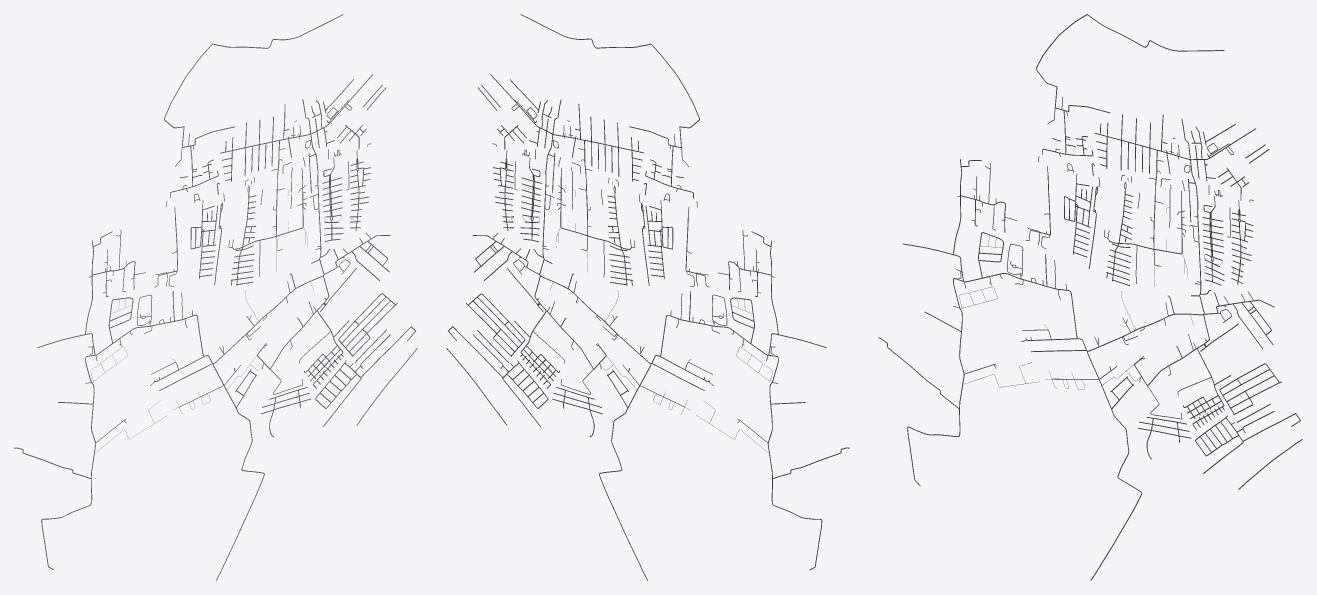
Rendered from roads_2_0.obj.
3 renders of one model, left to right at view 1: azimuth 30°, elevation 25°; view 2: azimuth 150°, elevation 25°; view 3: azimuth 330°, elevation 25°, orthographic. The views are drawn at different scales.
Size of the model in its own units: 2898 by 3691 by 6.04.
Materials: 3 (3 with a texture image).
